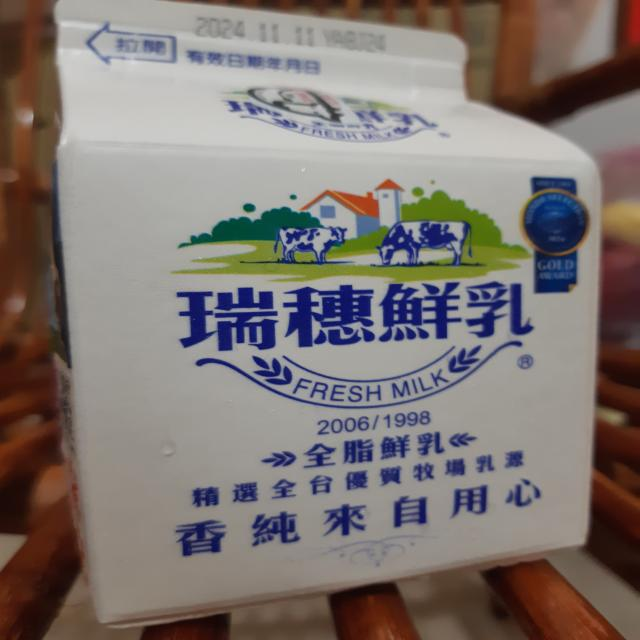RuiSui_Milk: (50, 0, 613, 632)
